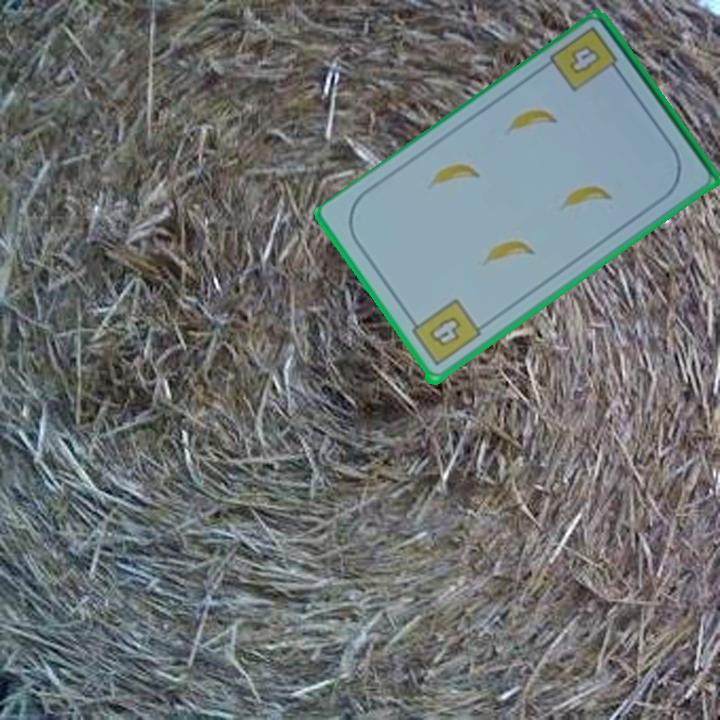4b: (405, 296, 484, 370), (546, 23, 627, 95)
